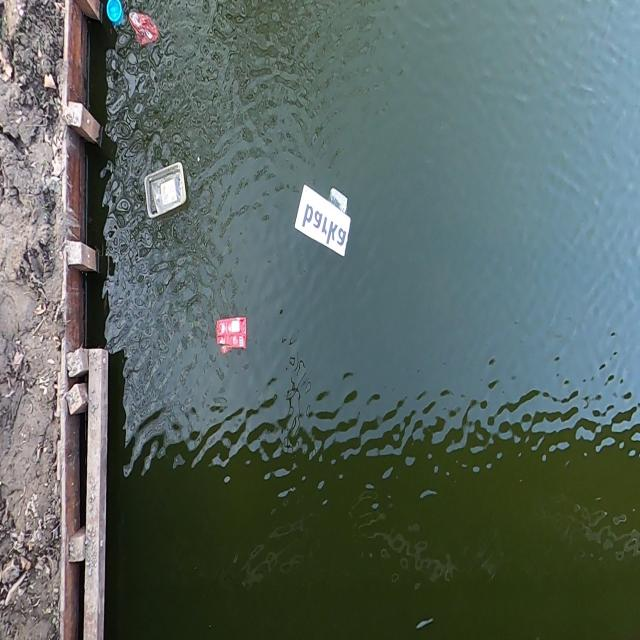Autre plastique: (291, 179, 355, 261), (140, 155, 190, 224), (205, 308, 254, 360), (104, 0, 123, 36)
Sac plastique: (127, 4, 158, 57)
